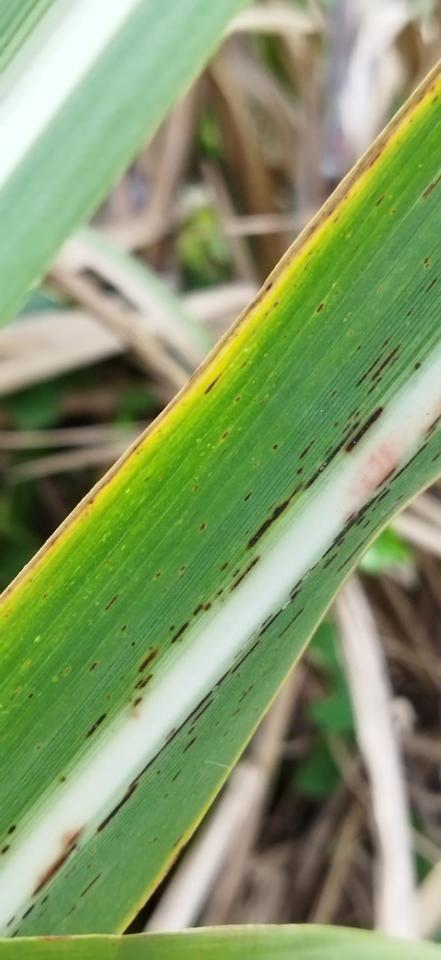RedRot: (349, 440, 407, 505), (131, 709, 140, 719)
Rust: (127, 665, 234, 790), (335, 493, 409, 575), (320, 485, 388, 560), (244, 478, 307, 552), (301, 417, 362, 493), (30, 841, 78, 898), (257, 586, 304, 639), (94, 781, 140, 835), (344, 405, 385, 454), (388, 442, 429, 484), (369, 340, 404, 383), (228, 554, 262, 593), (354, 349, 386, 389), (288, 561, 320, 597), (229, 639, 261, 675), (278, 605, 305, 638), (188, 697, 215, 727), (78, 870, 104, 898), (85, 711, 110, 739), (373, 465, 397, 491), (137, 647, 160, 674), (340, 409, 362, 434), (203, 371, 223, 398), (297, 436, 318, 461), (66, 822, 87, 847), (420, 174, 440, 199), (170, 621, 190, 645), (181, 734, 200, 755), (103, 592, 120, 612), (366, 377, 383, 396), (322, 551, 339, 570), (20, 902, 37, 921), (238, 684, 254, 704), (138, 672, 154, 691), (426, 413, 440, 433), (376, 488, 392, 504), (423, 277, 438, 294), (423, 425, 438, 441), (259, 613, 273, 629), (373, 193, 386, 209), (164, 726, 177, 741), (345, 407, 359, 420), (379, 336, 392, 350), (171, 768, 183, 782), (6, 822, 18, 836), (192, 603, 204, 616), (5, 916, 17, 929), (323, 444, 334, 457), (315, 302, 326, 315), (219, 561, 230, 574), (355, 514, 366, 527), (344, 512, 355, 525), (0, 844, 11, 856), (430, 450, 440, 463), (40, 893, 50, 906), (133, 679, 144, 690), (185, 725, 196, 736), (242, 492, 254, 502), (133, 696, 143, 708), (202, 601, 212, 612), (294, 466, 304, 476), (412, 361, 422, 371), (215, 588, 225, 598), (232, 395, 241, 405), (220, 431, 229, 441), (88, 662, 97, 672), (336, 537, 345, 547), (198, 523, 207, 532), (362, 520, 371, 529), (232, 569, 240, 578), (26, 692, 34, 701), (10, 929, 19, 937), (129, 640, 137, 648), (153, 571, 161, 579), (395, 494, 403, 502), (178, 565, 187, 572), (58, 776, 67, 783), (271, 444, 279, 451), (155, 768, 162, 776), (168, 625, 176, 631), (121, 624, 126, 632)
Yellow: (0, 56, 440, 622)
